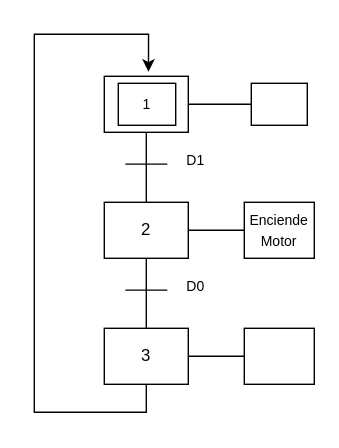
Some shapes in this 339 by 448 pixel diagram are drawn without their labels. The box of each missing label's shape, as (x1, y1, x2, y2) in pixels:
Apaga Motor: (243, 327, 314, 384)
Stop: (250, 82, 307, 125)
